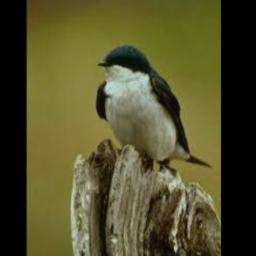Swallow: (96, 45, 211, 170)
